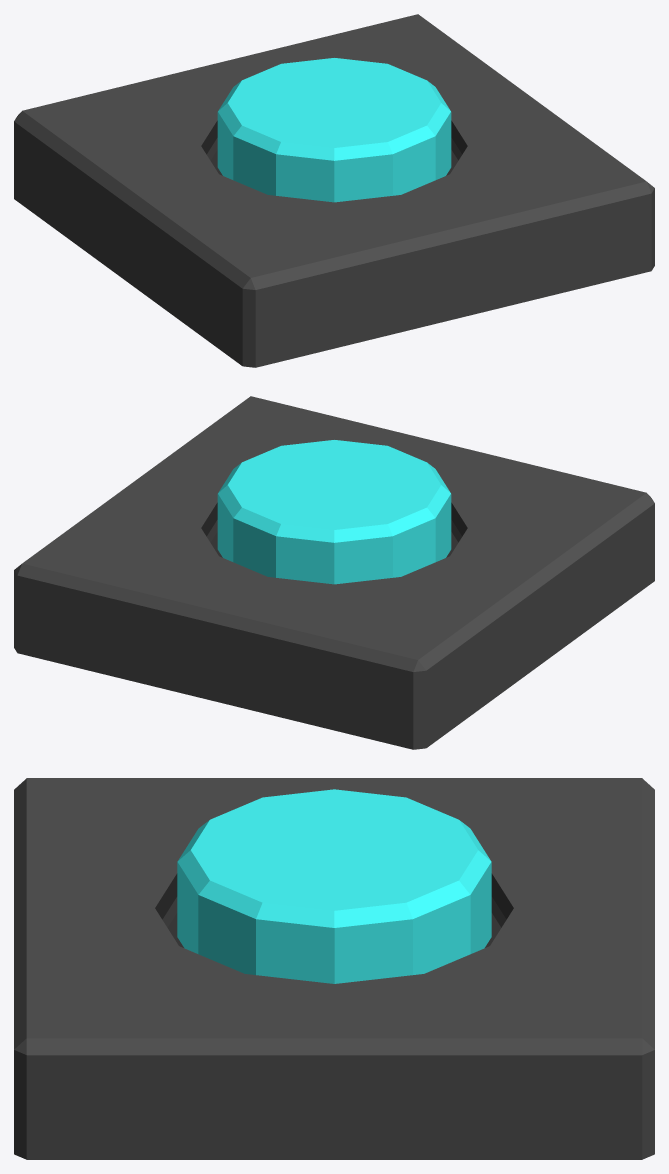
The model's file is HJD_SFB_Button_01.fbx.
3 views of the same model, one above another, from view 1: azimuth 30°, elevation 25°; view 2: azimuth 150°, elevation 25°; view 3: azimuth 270°, elevation 25° (orthographic). The views are drawn at different scales.
Visible parts, largest first — view 1: Base, Cap; view 2: Base, Cap; view 3: Base, Cap.
Part boxes in pixels (x1,y1,x2,y2): Base: (14,14,654,367); Cap: (217,58,451,202); Base: (14,396,654,749); Cap: (217,440,451,584); Base: (14,778,654,1159); Cap: (177,789,491,983).
Bounding box in the file's own units: 100 × 30 × 100.
